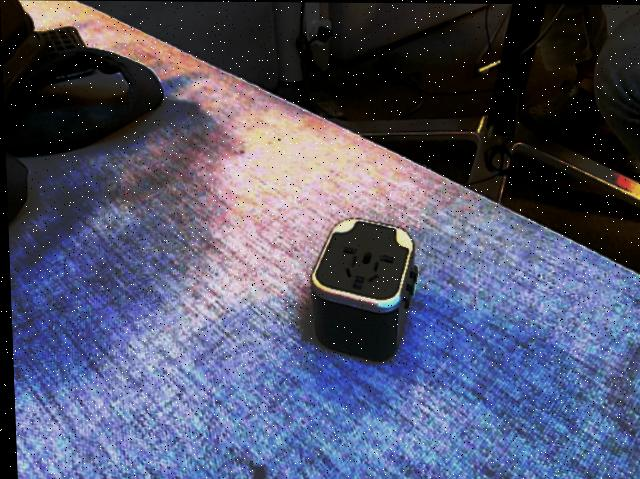adapter: (305, 216, 419, 362)
